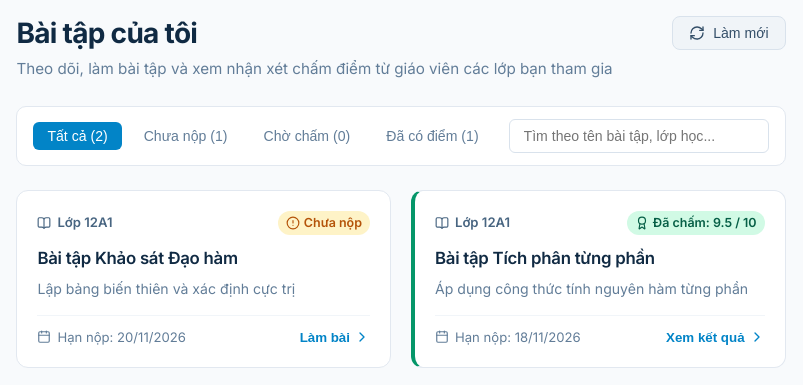
Test: LearnerAssignmentsPage UI Suite › filters assignments by status tabs
expect the heading "Bài tập Khảo sát Đạo hàm" is shown: met, box [37,248,238,268]
Click "Đã có điểm" tab
Step 1. Click the button "Đã có điểm (1)" → (432, 136), box [372,122,493,150]
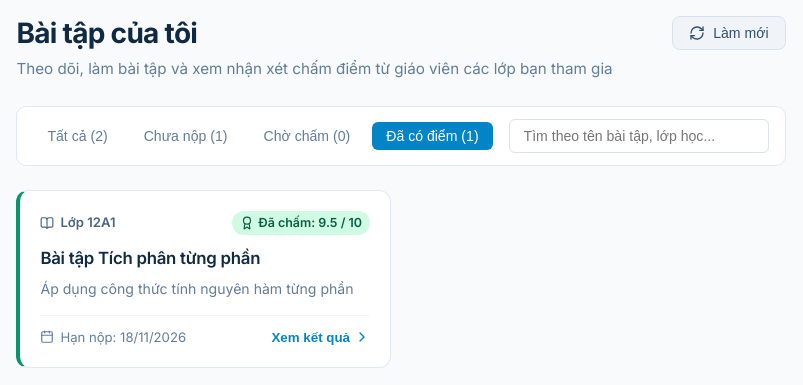
expect the heading "Bài tập Tích phân từng phần" is shown: met, box [40,248,260,268]
expect the heading "Bài tập Khảo sát Đạo hàm" is gone: met
